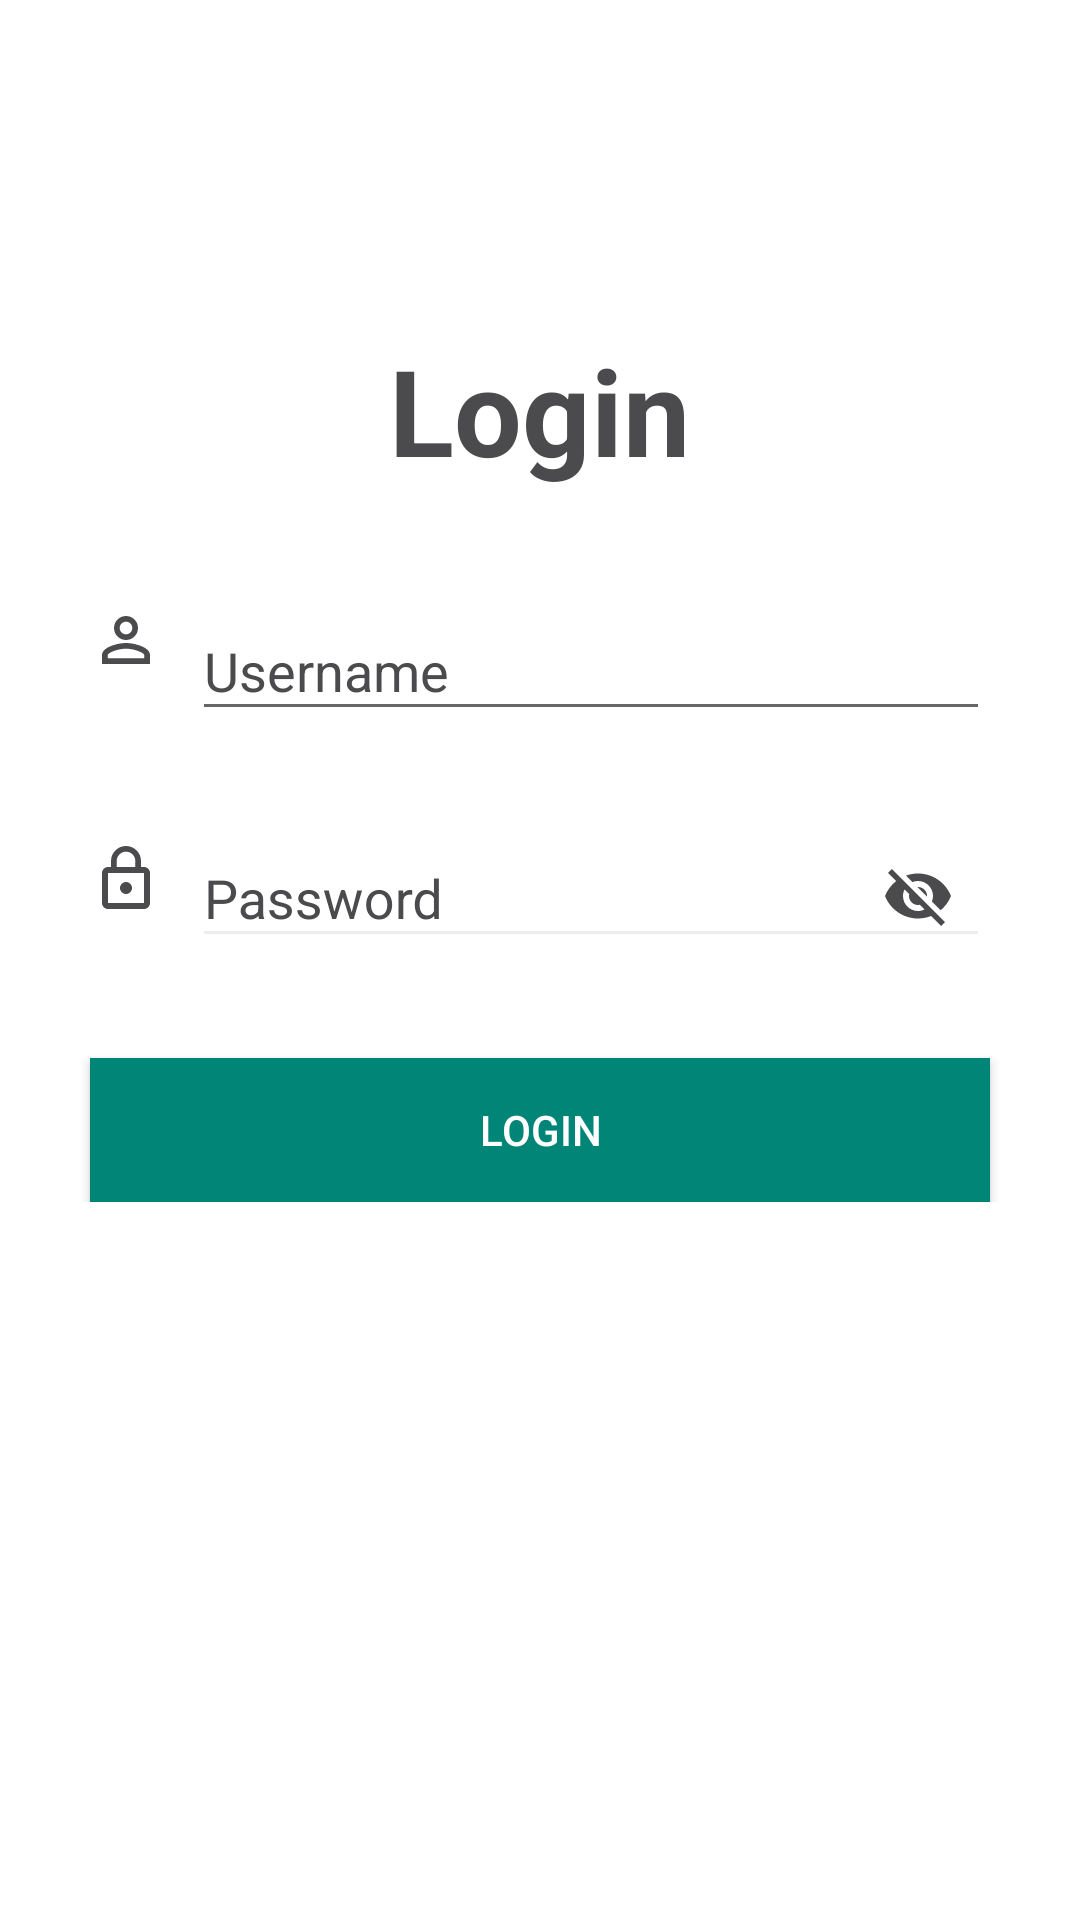

Named icons in this screenshot (1080w x 1920h) and their centers, [x,y]:
lock: [126,877]
